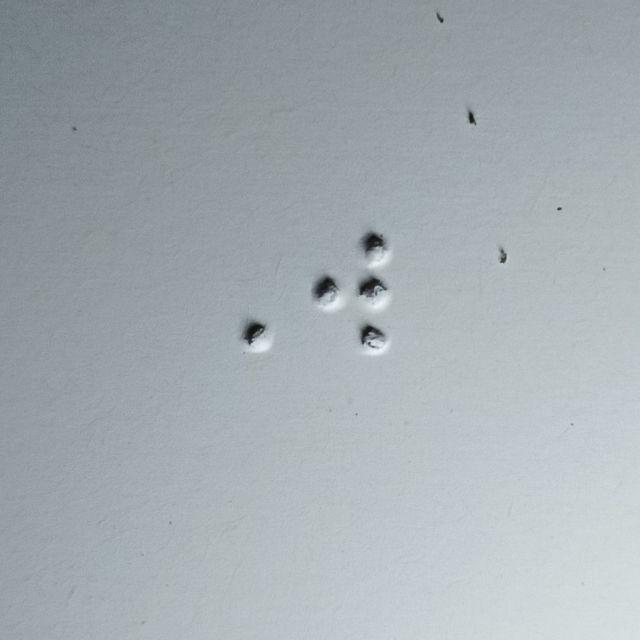W: (313, 233, 389, 356)
capital: (197, 235, 274, 360)
